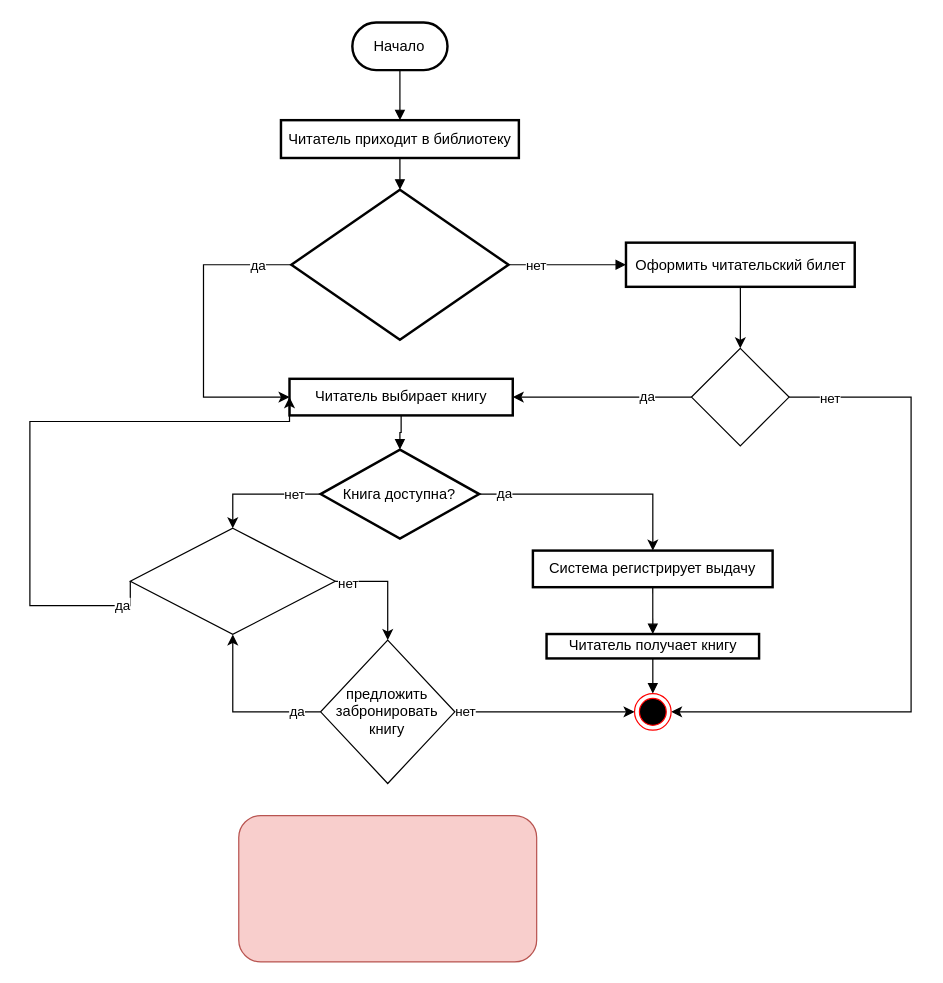
The diagram is 943 pixels wide and 983 high, and some of its shapes have lost their labels. Here are the shapes that lost their labels. From the top down, the centre of each, then its label:
pixel 399 264: Есть читательский билет?
pixel 739 396: создание
pixel 232 580: Предложить выбрать другую книгу
pixel 387 888: ОБЪЯСНЕНИЕ НАЗВАНИЯ https://vm.tiktok.com/ZMAKRfk4b/
